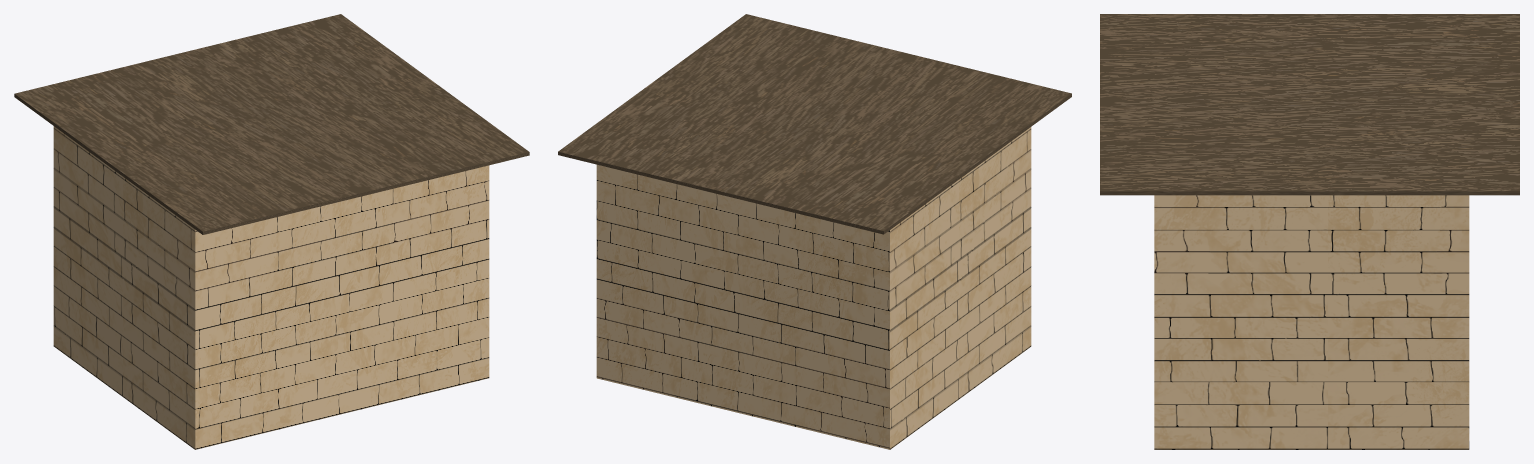
Rendered from Caballerizas.fbx.
3 views of the same model, side by side, from view 1: azimuth 30°, elevation 25°; view 2: azimuth 150°, elevation 25°; view 3: azimuth 270°, elevation 25° (orthographic). The views are drawn at different scales.
Parts seen in each view (by area): view 1: Box001, Box002; view 2: Box001, Box002; view 3: Box001, Box002.
Boxes of the visible parts, x1,y1,x2,y2 form: Box001: (53, 126, 489, 449); Box002: (14, 14, 529, 234); Box001: (596, 127, 1031, 449); Box002: (558, 14, 1071, 234); Box001: (1154, 195, 1469, 449); Box002: (1100, 14, 1519, 195).
Bounding box in the file's own units: 2 × 1.4 × 2.
2 materials, 2 textured.
